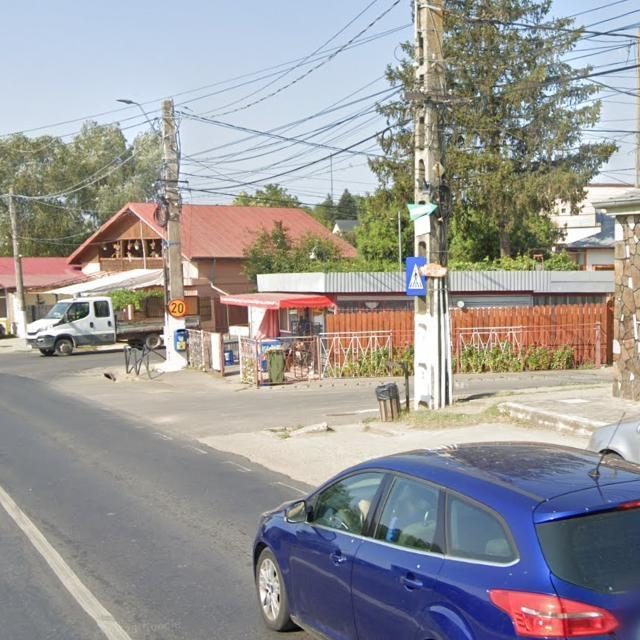forb_speed_over_20: (169, 298, 188, 318)
info_crosswalk: (405, 257, 427, 297)
